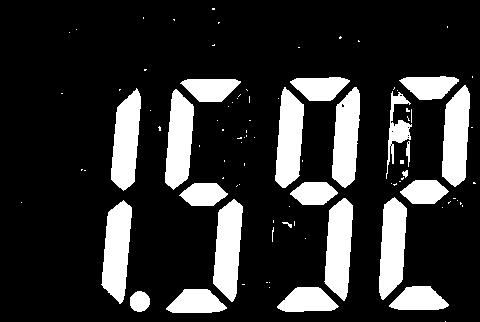1: (103, 87, 143, 301)
2: (374, 73, 472, 311)
5: (165, 76, 245, 316)
9: (275, 75, 359, 315)
dot: (128, 289, 152, 313)
